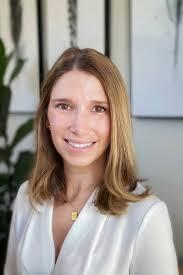Persons: (34, 50, 144, 200)
